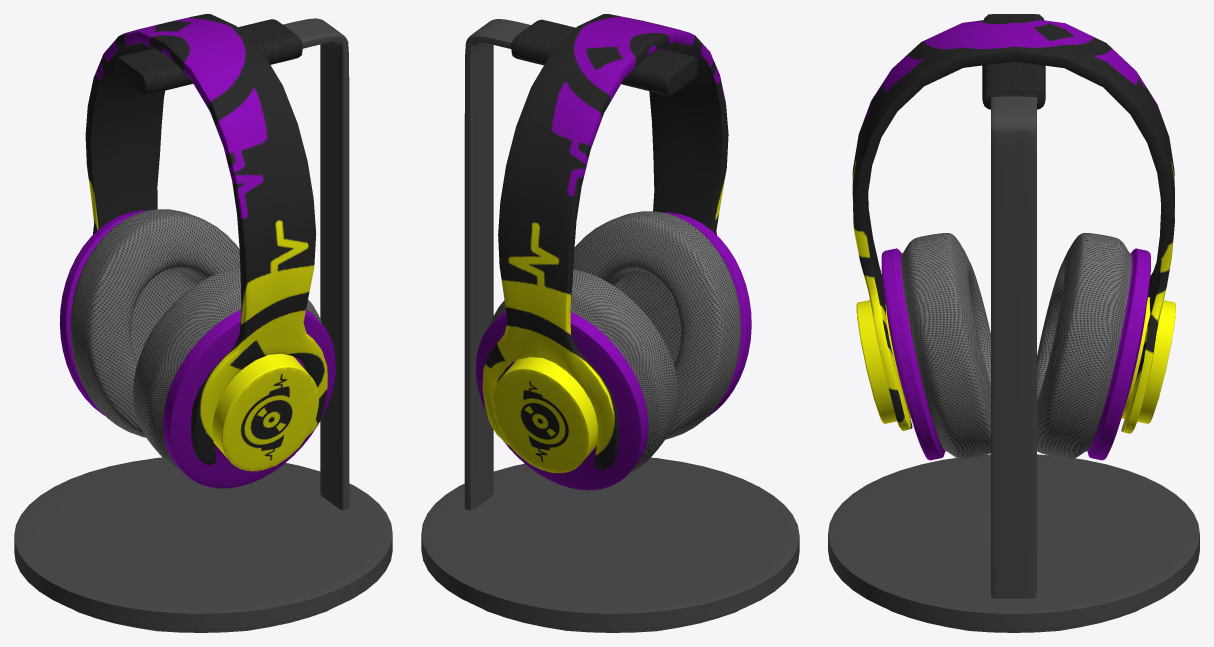
The model's file is headset.glb.
3 views of the same model, side by side, from view 1: azimuth 30°, elevation 25°; view 2: azimuth 150°, elevation 25°; view 3: azimuth 270°, elevation 25° (orthographic).
Parts seen in each view (by area): view 1: HPM Headphones on Stand.Shape; view 2: HPM Headphones on Stand.Shape; view 3: HPM Headphones on Stand.Shape.
Boxes of the visible parts, box(x1,y1,x2,y2) form: HPM Headphones on Stand.Shape: box(14, 14, 392, 632); HPM Headphones on Stand.Shape: box(421, 14, 799, 632); HPM Headphones on Stand.Shape: box(828, 14, 1199, 632).
Size of the model in its own units: 0.148 by 0.2269 by 0.1452.
Materials: 3 (3 with a texture image).
